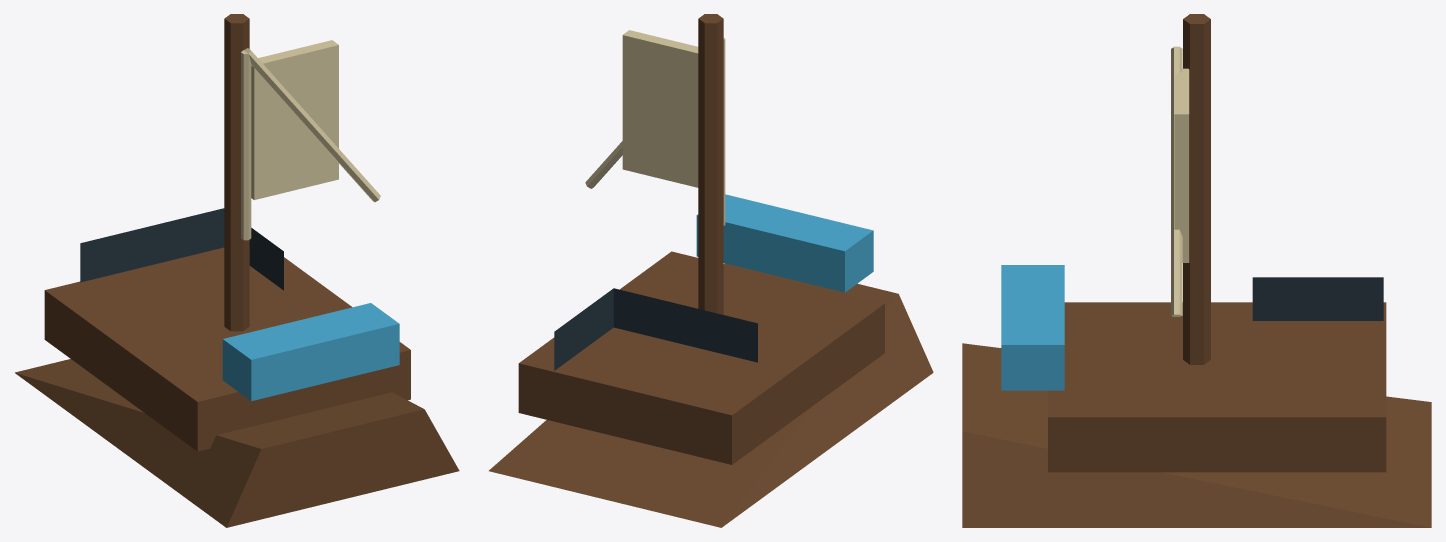
Rendered from ship.obj.
3 views of the same model, side by side, from view 1: azimuth 30°, elevation 25°; view 2: azimuth 150°, elevation 25°; view 3: azimuth 270°, elevation 25° (orthographic). The views are drawn at different scales.
Parts seen in each view (by area): view 1: ship; view 2: ship; view 3: ship.
Part boxes in pixels (bbox=[...]): ship: bbox=[15, 14, 459, 527]; ship: bbox=[489, 14, 933, 527]; ship: bbox=[962, 14, 1431, 527].
Size of the model in its own units: 1.27 by 1.95 by 1.86.
